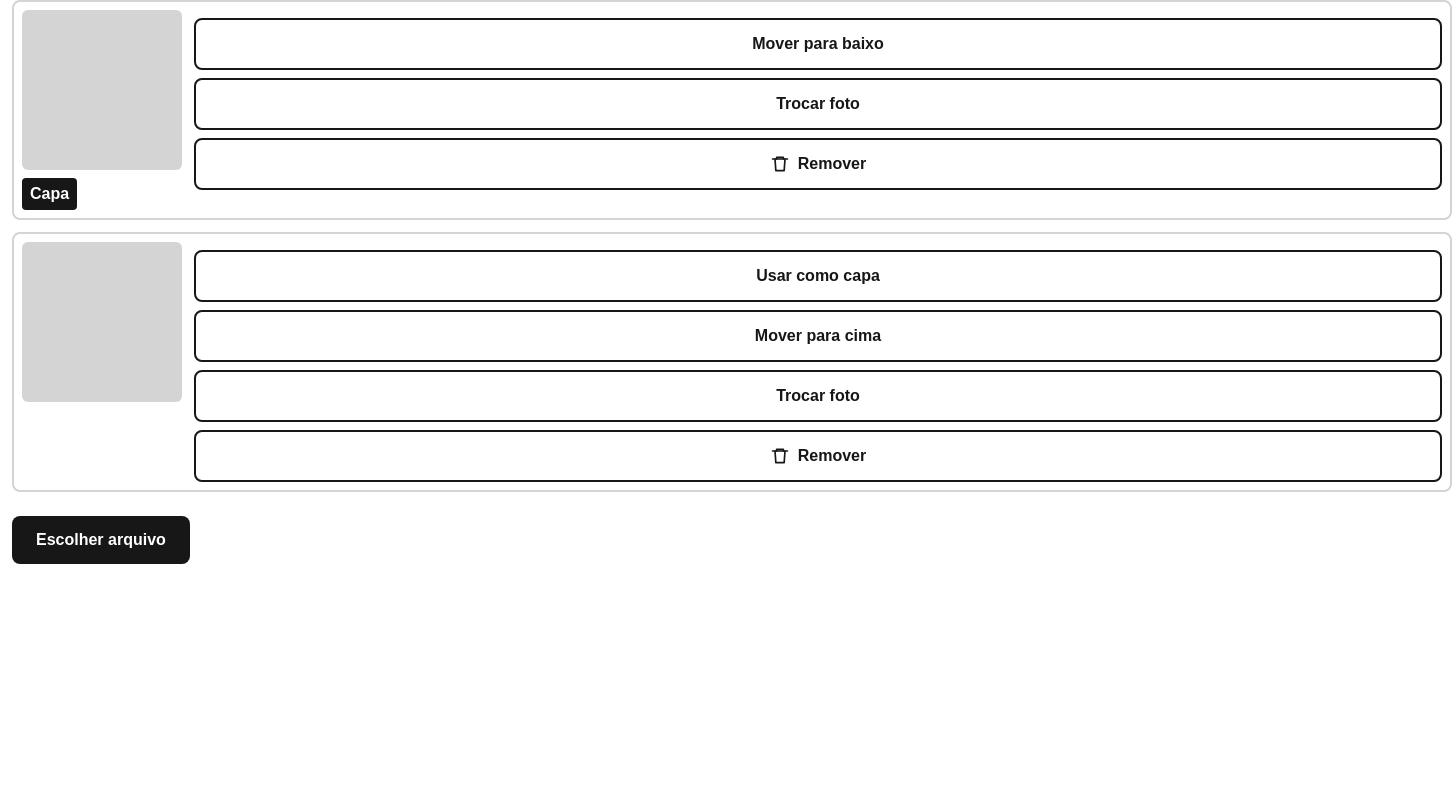
Test: GerenciarFotos — R5: produto não existe mais (T105a) › nao_existe ⇒ aviso, sem lista, sem Escolher arquivo, com link Voltar à lista
Click the button "Mover para baixo" at (818, 44), box [194,18,1442,70]
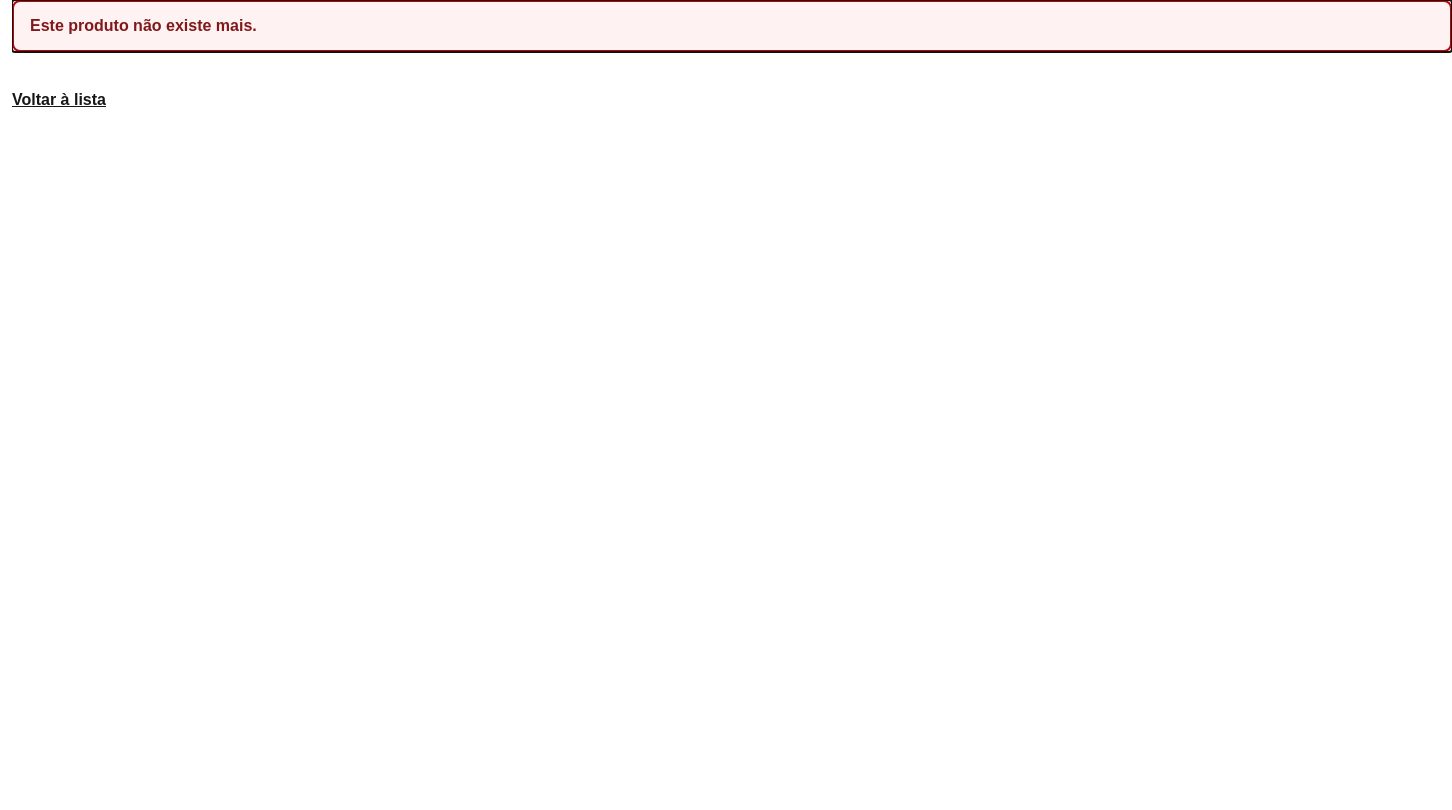
Result: the message reads "Este produto não existe mais." at [30,17,257,34]
Result: no list items are shown
Result: the button "Escolher arquivo" is gone
